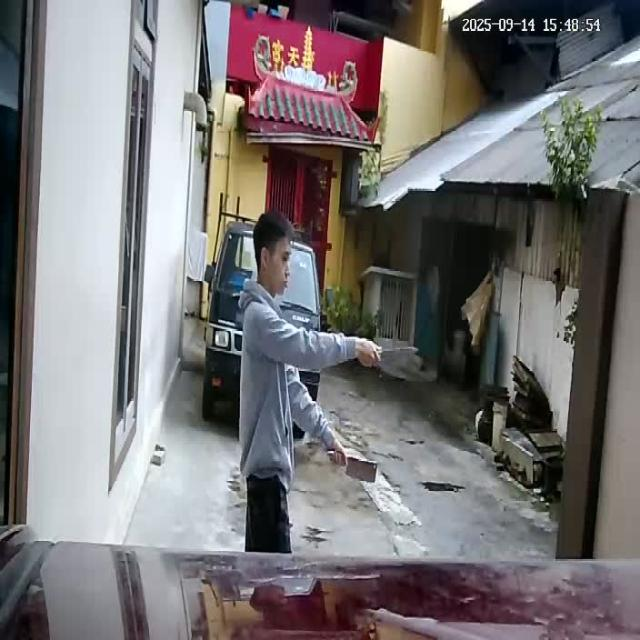senjata_tajam: (344, 453, 381, 485), (378, 344, 423, 366)
